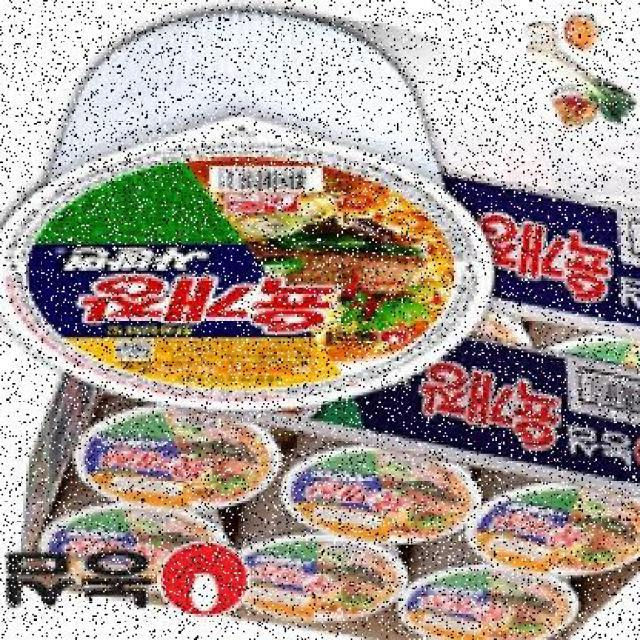Miscellaneous: (0, 11, 500, 407), (64, 404, 287, 520), (272, 426, 478, 548), (463, 451, 640, 578), (34, 502, 242, 606), (223, 517, 403, 628), (392, 544, 581, 640)
